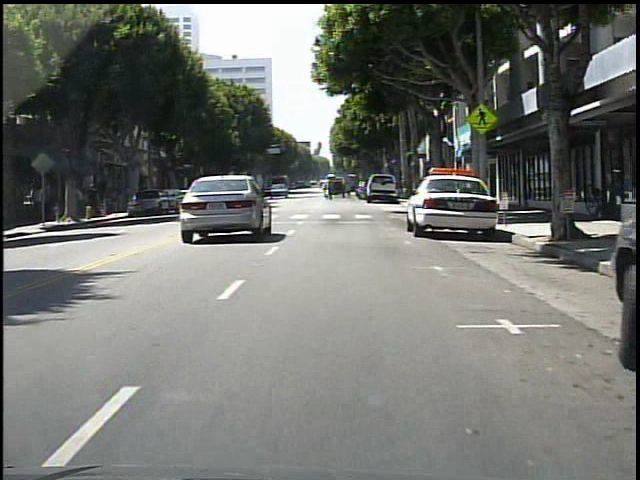person: (89, 182, 101, 218), (34, 181, 45, 220), (78, 186, 89, 218), (329, 177, 330, 200)
